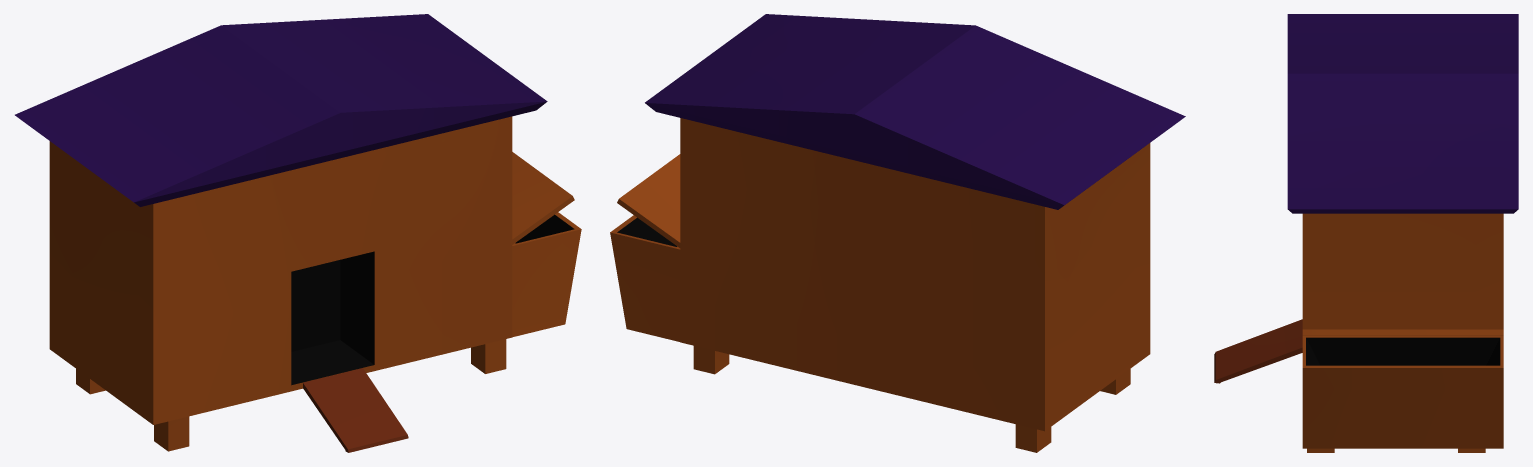
Rendered from Chicken coop.glb.
3 views of the same model, side by side, from view 1: azimuth 30°, elevation 25°; view 2: azimuth 150°, elevation 25°; view 3: azimuth 270°, elevation 25° (orthographic). The views are drawn at different scales.
Parts seen in each view (by area): view 1: Cube; view 2: Cube; view 3: Cube.
Part boxes in pixels (box(x1,y1,x2,y2)): Cube: box(15, 14, 581, 452); Cube: box(610, 14, 1185, 452); Cube: box(1214, 14, 1518, 452).
Size of the model in its own units: 15.96 by 10.26 by 9.55.
1 material, 1 textured.
